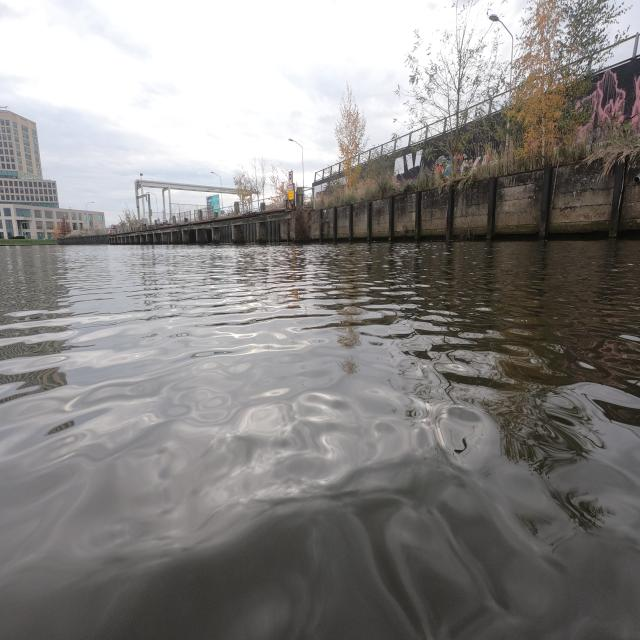sky: (4, 4, 448, 206)
wall: (254, 146, 638, 238)
water: (0, 240, 640, 640)
